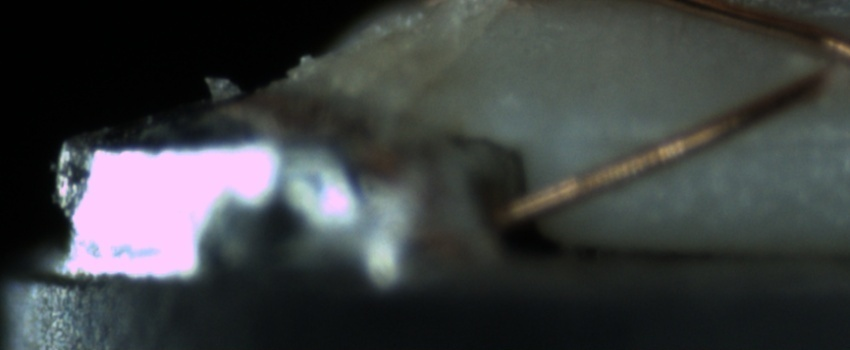DL: (569, 107, 844, 172)
